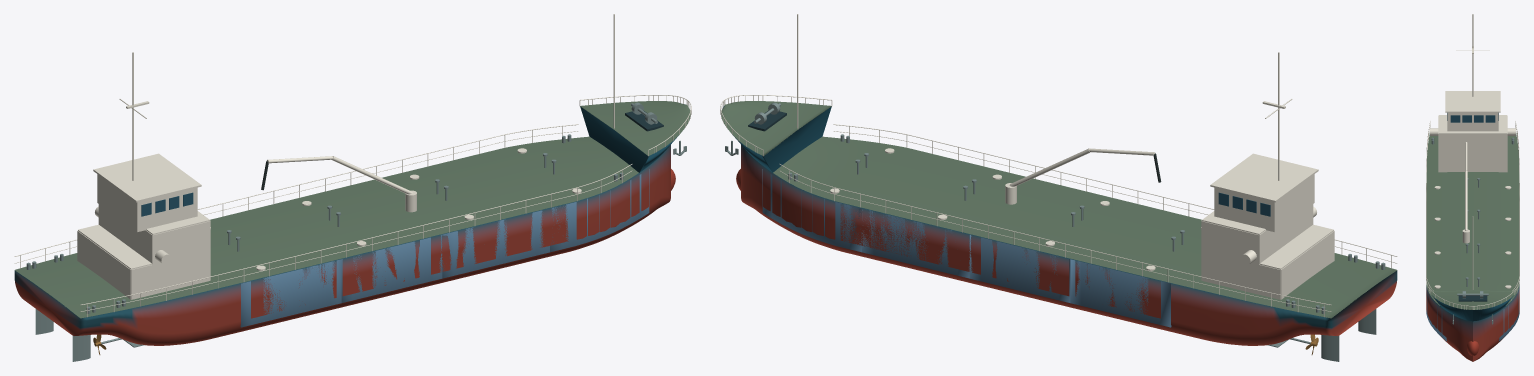
File: hai-yin-i-visual-assembly.glb
The picture shows the model from 3 angles, left to right: view 1: azimuth 30°, elevation 25°; view 2: azimuth 150°, elevation 25°; view 3: azimuth 270°, elevation 25°; orthographic projection. The views are drawn at different scales.
Parts seen in each view (by area): view 1: main_deck, closed_hull_shell, ballast_no4_port, forecastle_deck, compass_deck, ballast_no3_port, wheelhouse, main_side_wall_1, ballast_no2_port, side_guardrails_1, upper_side_wall_1, main_aft_wall (+5 smaller); view 2: main_deck, closed_hull_shell, ballast_no4_starboard, ballast_no3_starboard, forecastle_deck, compass_deck, ballast_no2_starboard, wheelhouse, main_side_wall_-1, ballast_no1_starboard, side_guardrails_-1, forecastle_flared_shell (+5 smaller); view 3: main_deck, closed_hull_shell, upper_forward_wall, main_forward_wall, compass_deck, forecastle_deck, wheelhouse, forecastle_flared_shell, accommodation_roof, side_guardrails_-1, side_guardrails_1, ballast_no1_starboard (+9 smaller).
Part boxes in pixels (left/top/right/bottom): main_deck: left=15, top=136, right=638, bottom=318; closed_hull_shell: left=14, top=145, right=670, bottom=345; ballast_no4_port: left=240, top=259, right=341, bottom=327; forecastle_deck: left=580, top=101, right=690, bottom=155; compass_deck: left=93, top=153, right=201, bottom=202; ballast_no3_port: left=341, top=235, right=442, bottom=302; wheelhouse: left=97, top=174, right=197, bottom=231; main_side_wall_1: left=131, top=251, right=210, bottom=299; ballast_no2_port: left=442, top=210, right=549, bottom=278; side_guardrails_1: left=80, top=164, right=632, bottom=317; upper_side_wall_1: left=152, top=221, right=210, bottom=264; main_aft_wall: left=77, top=231, right=130, bottom=299; main_deck: left=773, top=136, right=1396, bottom=318; closed_hull_shell: left=741, top=145, right=1397, bottom=345; ballast_no4_starboard: left=1070, top=259, right=1171, bottom=327; ballast_no3_starboard: left=969, top=235, right=1070, bottom=302; forecastle_deck: left=721, top=101, right=831, bottom=155; compass_deck: left=1210, top=153, right=1318, bottom=202; ballast_no2_starboard: left=862, top=210, right=969, bottom=278; wheelhouse: left=1214, top=174, right=1314, bottom=231; main_side_wall_-1: left=1201, top=251, right=1280, bottom=299; ballast_no1_starboard: left=762, top=169, right=861, bottom=252; side_guardrails_-1: left=779, top=164, right=1331, bottom=317; forecastle_flared_shell: left=722, top=106, right=831, bottom=172; main_deck: left=1426, top=133, right=1519, bottom=305; closed_hull_shell: left=1426, top=286, right=1519, bottom=361; upper_forward_wall: left=1438, top=134, right=1507, bottom=152; main_forward_wall: left=1438, top=153, right=1507, bottom=172; compass_deck: left=1445, top=91, right=1500, bottom=112; forecastle_deck: left=1429, top=290, right=1516, bottom=309; wheelhouse: left=1447, top=112, right=1498, bottom=131; forecastle_flared_shell: left=1432, top=295, right=1513, bottom=321; accommodation_roof: left=1438, top=115, right=1507, bottom=133; side_guardrails_-1: left=1511, top=121, right=1519, bottom=300; side_guardrails_1: left=1426, top=121, right=1434, bottom=300; ballast_no1_starboard: left=1499, top=289, right=1519, bottom=341.
Size of the model in its own units: 49.93 by 20.7 by 9.85.
